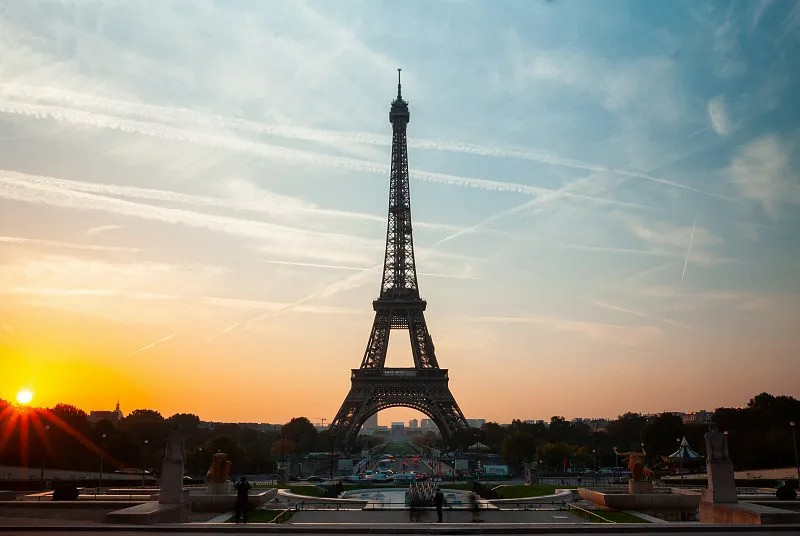Eiffel: (326, 68, 472, 465)
